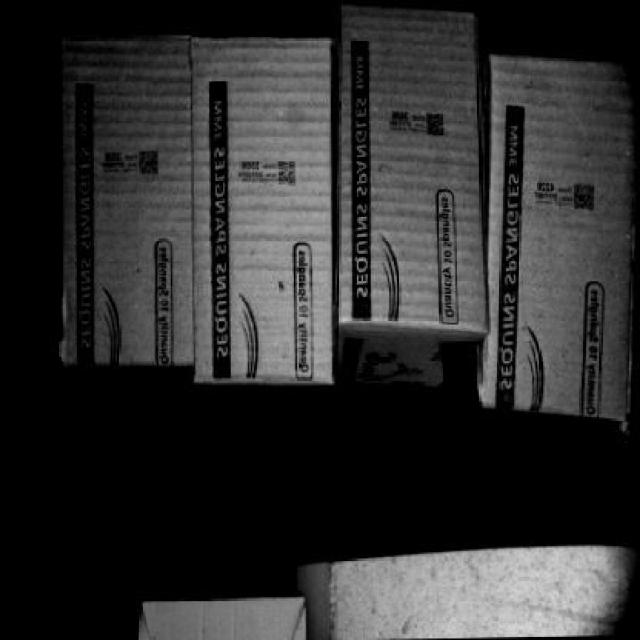cardboxes: (483, 56, 632, 407), (186, 40, 337, 382), (338, 2, 476, 326), (58, 30, 188, 362)
